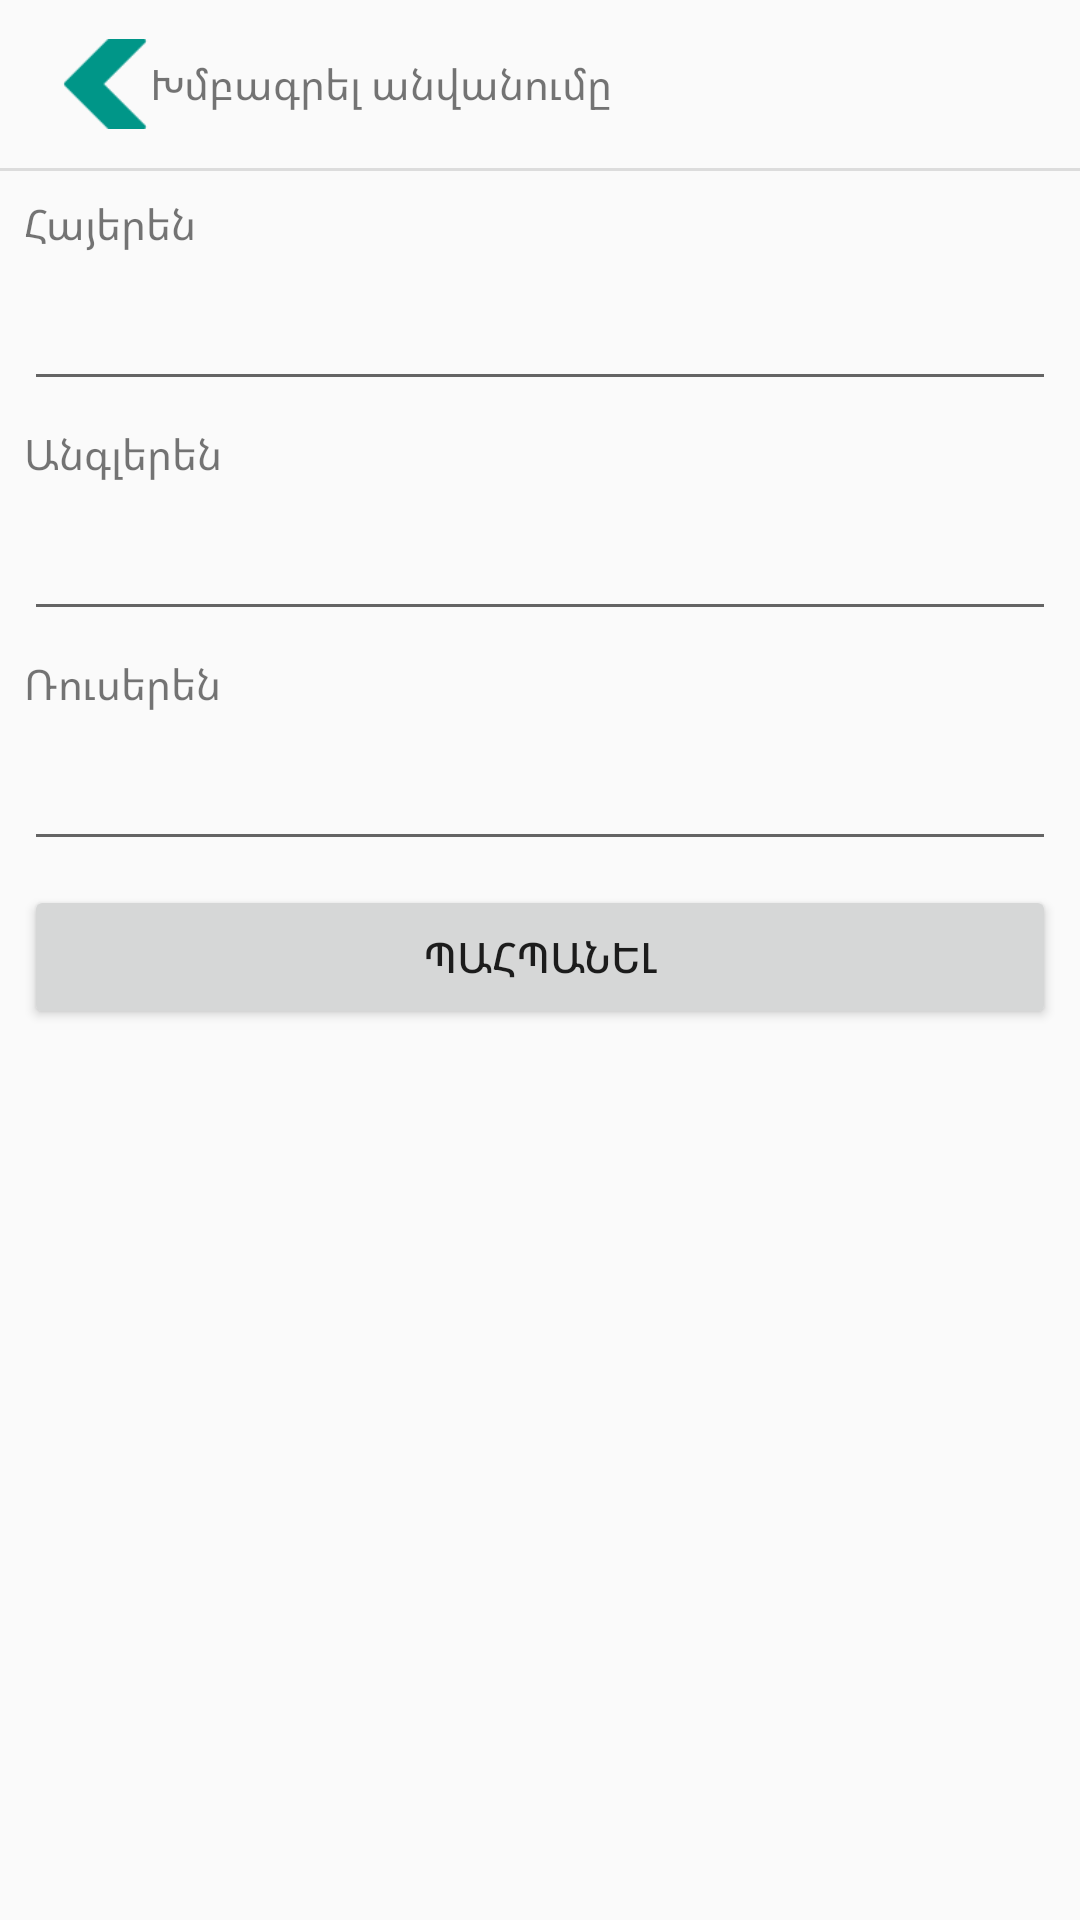

Named icons in this screenshot (1080px x 1920px) and their bounding boxes, [x1, y1, x2, y2]:
prev: [64, 39, 146, 129]
